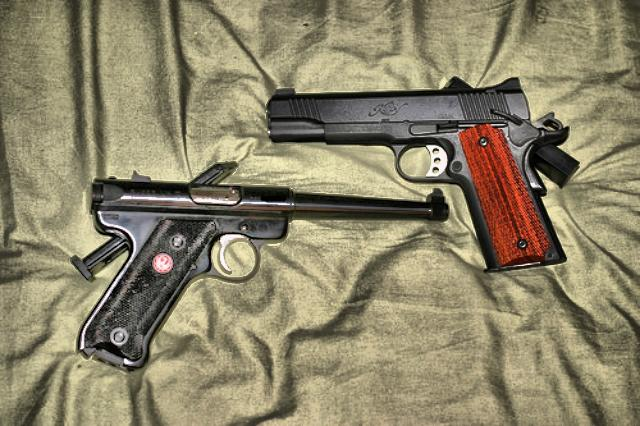pistol: (68, 181, 452, 367), (259, 66, 567, 274)
